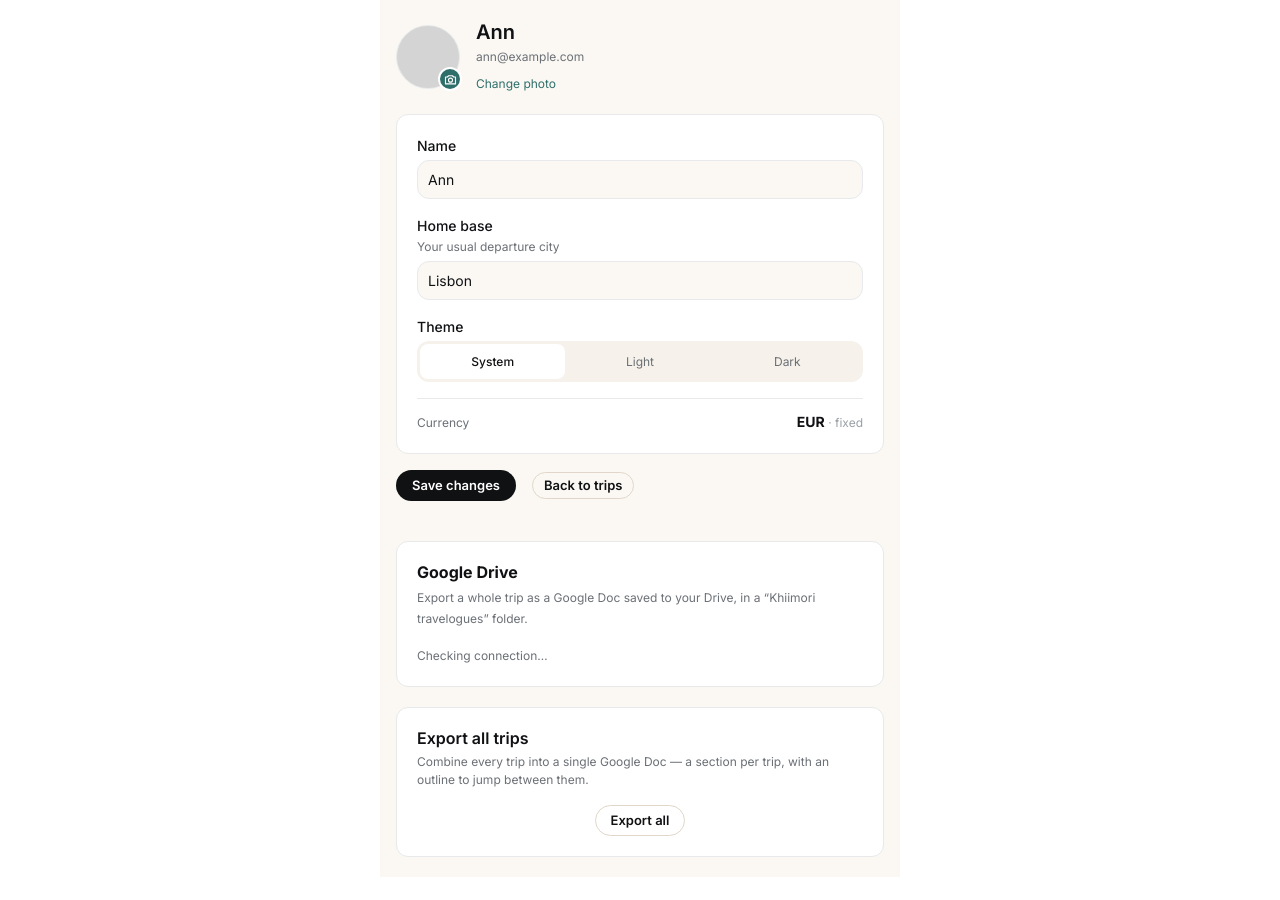
Scenario: Profile › saves edits via PATCH /me and reflects immediately
The width and height of the screenshot is (1280, 900).
Step 1. Replace the text in the field labelled "Name" with "Ann B." → (640, 180), box [417, 160, 863, 199]
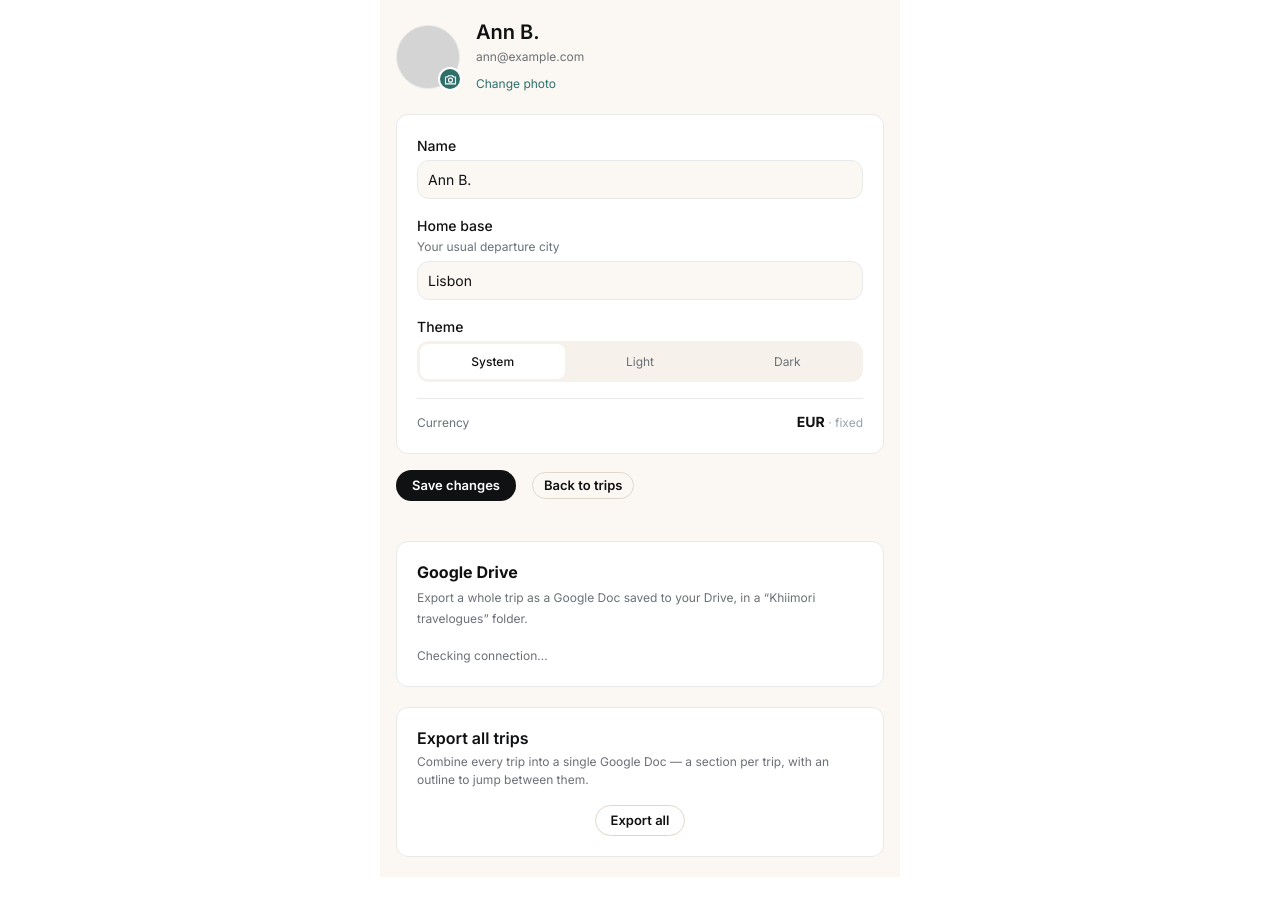
Step 2. Click the radio button labelled "Dark" → (787, 362), box [715, 344, 860, 379]
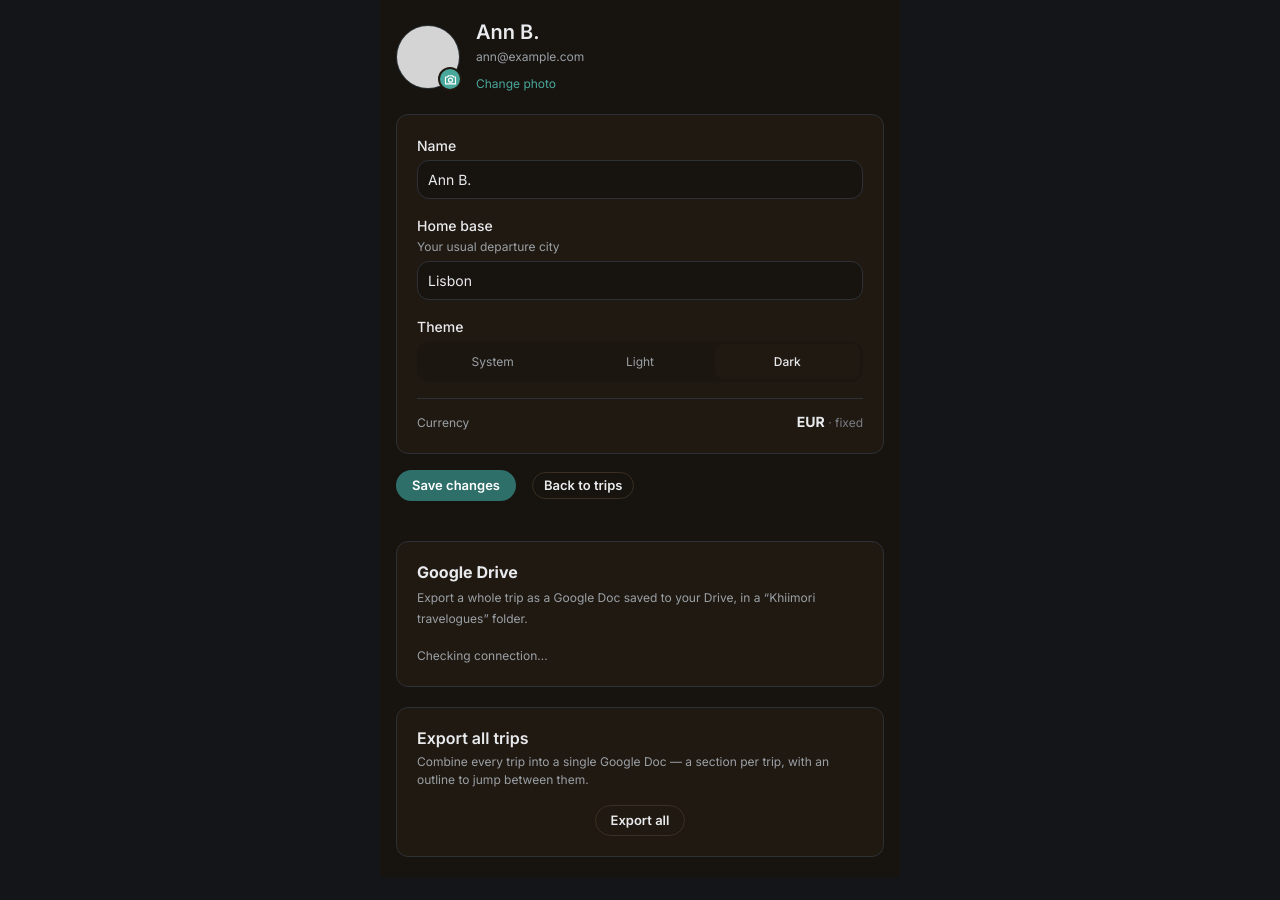
Step 3. Click the button "Save changes" → (456, 486), box [396, 470, 516, 501]
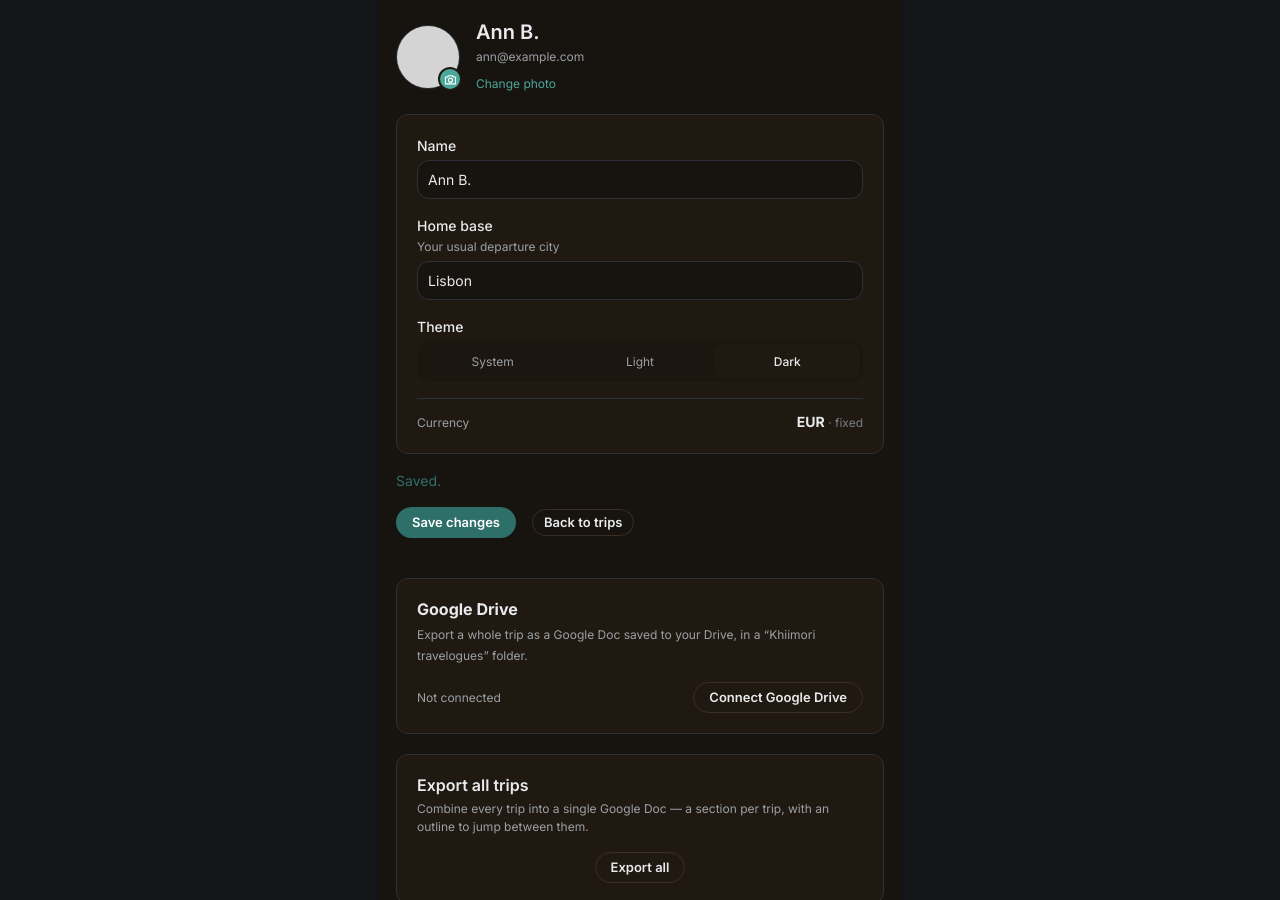
Check: the message shows "Saved", box [396, 472, 441, 489]
